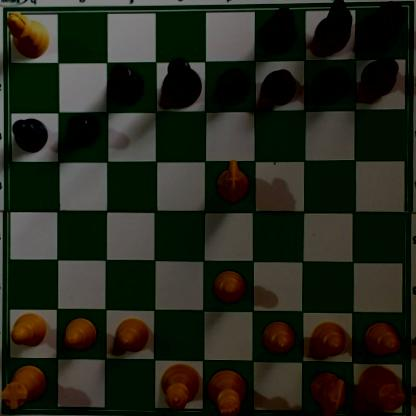black-bishop: (258, 2, 293, 55), (106, 64, 147, 108)
black-king: (160, 54, 202, 110)
black-knight: (315, 1, 353, 57)
black-pawn: (212, 67, 250, 107), (10, 115, 49, 151), (312, 66, 348, 105), (361, 59, 399, 95), (262, 69, 297, 106), (65, 114, 100, 148)
black-rook: (354, 1, 405, 55)
white-bishop: (4, 12, 52, 59)
white-king: (205, 366, 247, 416)
white-knight: (306, 366, 349, 416), (213, 159, 250, 207)
white-pawn: (360, 320, 402, 358), (112, 315, 150, 354), (260, 319, 297, 356), (9, 314, 48, 349), (212, 269, 247, 307), (63, 316, 99, 352), (310, 321, 346, 356)
white-queen: (157, 362, 199, 411)
white-rook: (1, 360, 49, 412), (354, 362, 405, 410)
